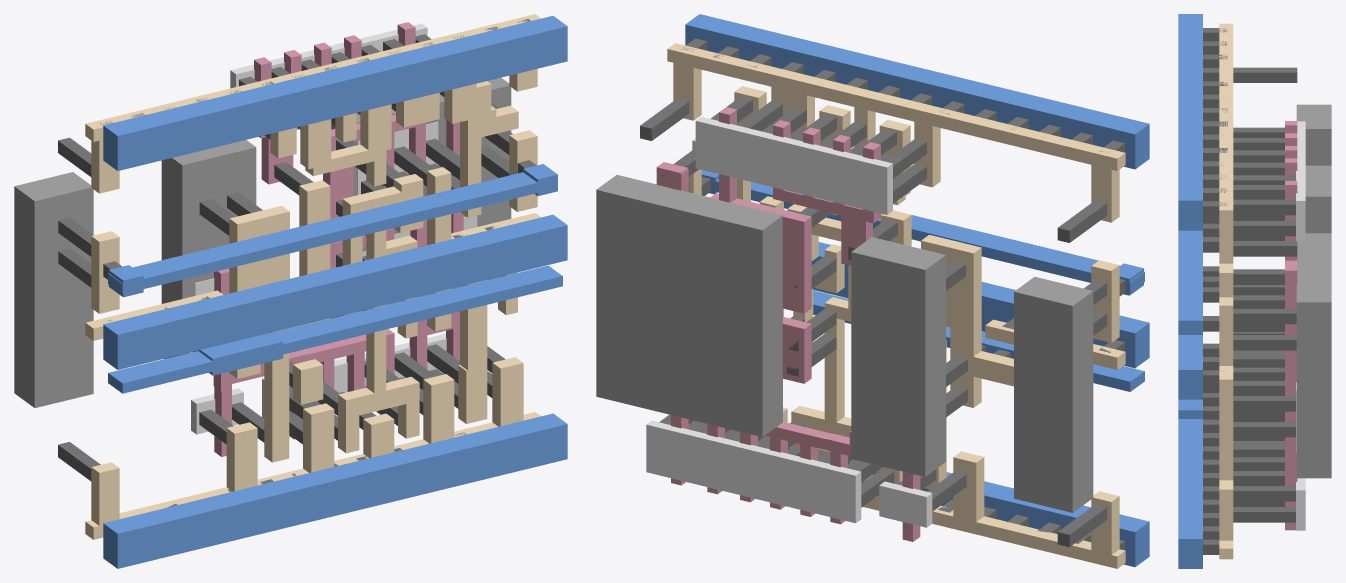
Rendered from sky130_fd_sc_hd__lpflow_lsbuf_lh_hl_isowell_tap_2.gds.gltf.
3 views of the same model, side by side, from view 1: azimuth 30°, elevation 25°; view 2: azimuth 150°, elevation 25°; view 3: azimuth 270°, elevation 25° (orthographic). The views are drawn at different scales.
Parts seen in each view (by area): view 1: sky130_fd_sc_hd__lpflow_lsbuf_lh_hl_isowell_tap_2_met1, sky130_fd_sc_hd__lpflow_lsbuf_lh_hl_isowell_tap_2_li1, sky130_fd_sc_hd__lpflow_lsbuf_lh_hl_isowell_tap_2_nwell, sky130_fd_sc_hd__lpflow_lsbuf_lh_hl_isowell_tap_2_licon, sky130_fd_sc_hd__lpflow_lsbuf_lh_hl_isowell_tap_2_poly, sky130_fd_sc_hd__lpflow_lsbuf_lh_hl_isowell_tap_2_diff, sky130_fd_sc_hd__lpflow_lsbuf_lh_hl_isowell_tap_2_mcon; view 2: sky130_fd_sc_hd__lpflow_lsbuf_lh_hl_isowell_tap_2_nwell, sky130_fd_sc_hd__lpflow_lsbuf_lh_hl_isowell_tap_2_li1, sky130_fd_sc_hd__lpflow_lsbuf_lh_hl_isowell_tap_2_met1, sky130_fd_sc_hd__lpflow_lsbuf_lh_hl_isowell_tap_2_diff, sky130_fd_sc_hd__lpflow_lsbuf_lh_hl_isowell_tap_2_licon, sky130_fd_sc_hd__lpflow_lsbuf_lh_hl_isowell_tap_2_poly, sky130_fd_sc_hd__lpflow_lsbuf_lh_hl_isowell_tap_2_mcon; view 3: sky130_fd_sc_hd__lpflow_lsbuf_lh_hl_isowell_tap_2_licon, sky130_fd_sc_hd__lpflow_lsbuf_lh_hl_isowell_tap_2_met1, sky130_fd_sc_hd__lpflow_lsbuf_lh_hl_isowell_tap_2_nwell, sky130_fd_sc_hd__lpflow_lsbuf_lh_hl_isowell_tap_2_mcon, sky130_fd_sc_hd__lpflow_lsbuf_lh_hl_isowell_tap_2_li1, sky130_fd_sc_hd__lpflow_lsbuf_lh_hl_isowell_tap_2_poly, sky130_fd_sc_hd__lpflow_lsbuf_lh_hl_isowell_tap_2_diff.
Boxes of the visible parts, x1,y1,x2,y2 form: sky130_fd_sc_hd__lpflow_lsbuf_lh_hl_isowell_tap_2_met1: (103,16,567,568); sky130_fd_sc_hd__lpflow_lsbuf_lh_hl_isowell_tap_2_li1: (85,14,541,539); sky130_fd_sc_hd__lpflow_lsbuf_lh_hl_isowell_tap_2_nwell: (14,77,511,407); sky130_fd_sc_hd__lpflow_lsbuf_lh_hl_isowell_tap_2_licon: (58,34,512,481); sky130_fd_sc_hd__lpflow_lsbuf_lh_hl_isowell_tap_2_poly: (213,22,463,456); sky130_fd_sc_hd__lpflow_lsbuf_lh_hl_isowell_tap_2_diff: (191,23,477,434); sky130_fd_sc_hd__lpflow_lsbuf_lh_hl_isowell_tap_2_mcon: (100,19,536,507); sky130_fd_sc_hd__lpflow_lsbuf_lh_hl_isowell_tap_2_nwell: (596,175,1093,512); sky130_fd_sc_hd__lpflow_lsbuf_lh_hl_isowell_tap_2_li1: (667,43,1125,568); sky130_fd_sc_hd__lpflow_lsbuf_lh_hl_isowell_tap_2_met1: (685,14,1149,566); sky130_fd_sc_hd__lpflow_lsbuf_lh_hl_isowell_tap_2_diff: (646,116,932,527); sky130_fd_sc_hd__lpflow_lsbuf_lh_hl_isowell_tap_2_licon: (640,96,1107,547); sky130_fd_sc_hd__lpflow_lsbuf_lh_hl_isowell_tap_2_poly: (656,107,920,541); sky130_fd_sc_hd__lpflow_lsbuf_lh_hl_isowell_tap_2_mcon: (681,38,1125,550); sky130_fd_sc_hd__lpflow_lsbuf_lh_hl_isowell_tap_2_licon: (1233,67,1297,522); sky130_fd_sc_hd__lpflow_lsbuf_lh_hl_isowell_tap_2_met1: (1178,14,1202,568); sky130_fd_sc_hd__lpflow_lsbuf_lh_hl_isowell_tap_2_nwell: (1296,104,1331,478); sky130_fd_sc_hd__lpflow_lsbuf_lh_hl_isowell_tap_2_mcon: (1203,28,1227,554); sky130_fd_sc_hd__lpflow_lsbuf_lh_hl_isowell_tap_2_li1: (1219,23,1233,559); sky130_fd_sc_hd__lpflow_lsbuf_lh_hl_isowell_tap_2_poly: (1285,121,1297,530); sky130_fd_sc_hd__lpflow_lsbuf_lh_hl_isowell_tap_2_diff: (1296,121,1305,530).
Size of the model in its own units: 6.82 by 5.92 by 2.24.
